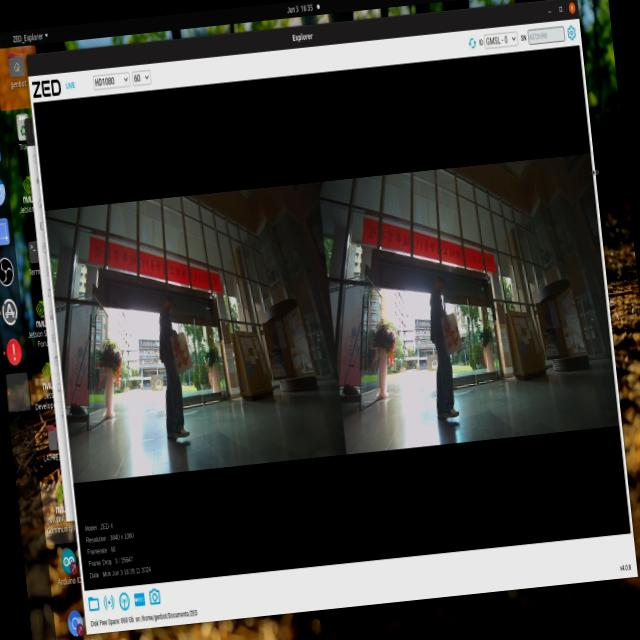red: (440, 304, 462, 360), (167, 334, 182, 364)
